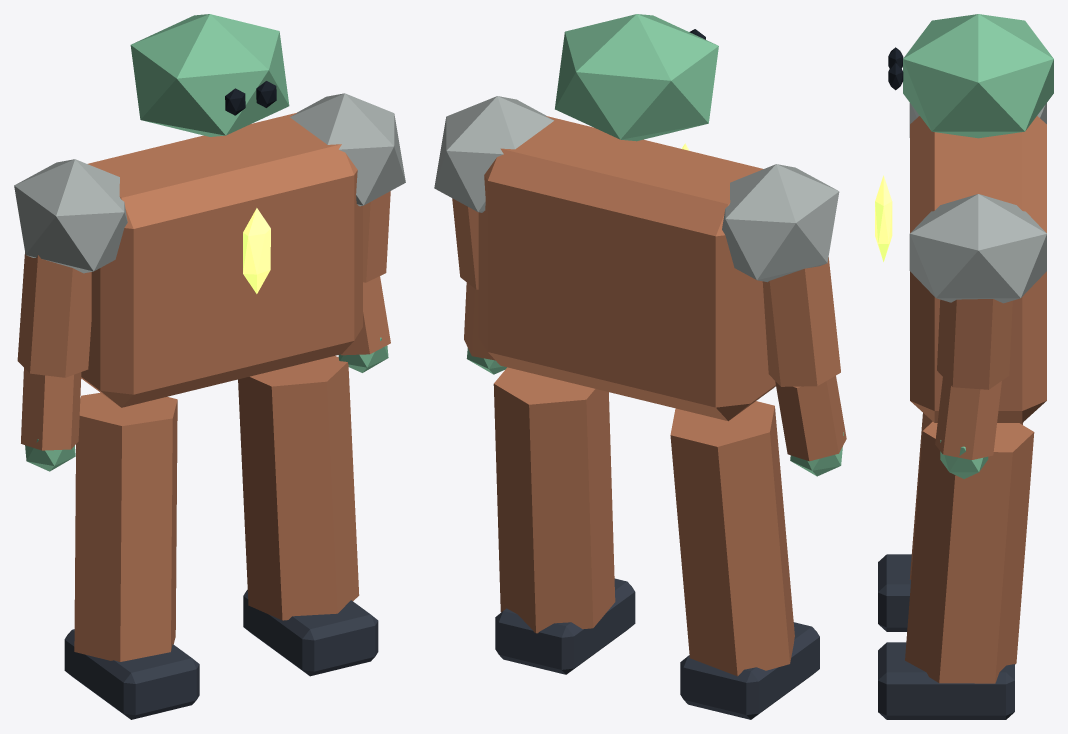
The model's file is npcs_012_seed11.glb.
The picture shows the model from 3 angles, left to right: view 1: azimuth 30°, elevation 25°; view 2: azimuth 150°, elevation 25°; view 3: azimuth 270°, elevation 25°; orthographic projection. The views are drawn at different scales.
Visible parts, largest first — view 1: npcs_012_seed11; view 2: npcs_012_seed11; view 3: npcs_012_seed11.
Part boxes in pixels (bbox=[...]): npcs_012_seed11: bbox=[14, 14, 405, 719]; npcs_012_seed11: bbox=[434, 14, 846, 719]; npcs_012_seed11: bbox=[875, 14, 1053, 719].
Size of the model in its own units: 1.24 by 2.01 by 0.503.
